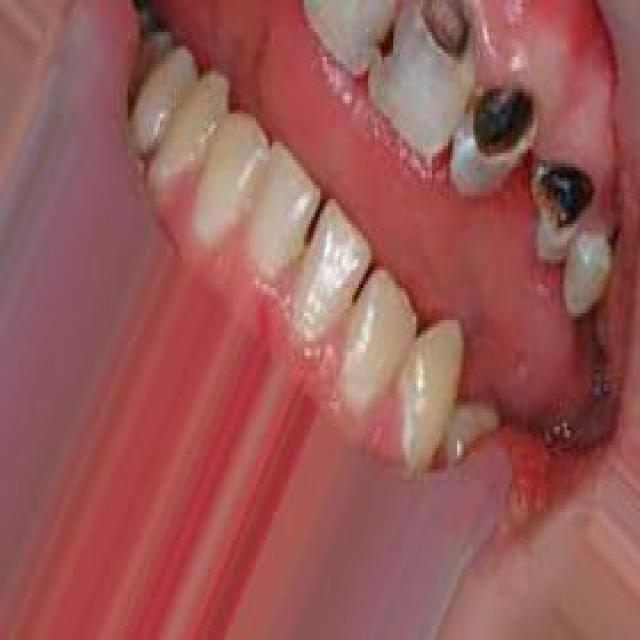caries: (458, 72, 536, 168), (526, 151, 595, 253), (414, 0, 475, 64), (360, 4, 402, 88)
